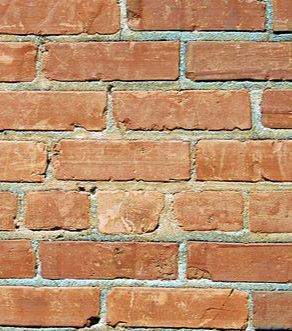brick: (106, 285, 249, 331), (110, 88, 255, 133), (54, 137, 192, 184), (34, 240, 181, 282), (39, 41, 182, 83), (185, 238, 292, 285), (186, 37, 292, 82), (1, 89, 107, 134), (195, 137, 292, 185), (125, 1, 268, 33), (1, 284, 103, 327), (1, 1, 122, 34), (94, 188, 163, 235), (169, 189, 245, 231), (20, 189, 92, 231), (1, 138, 51, 182), (247, 186, 292, 234)
